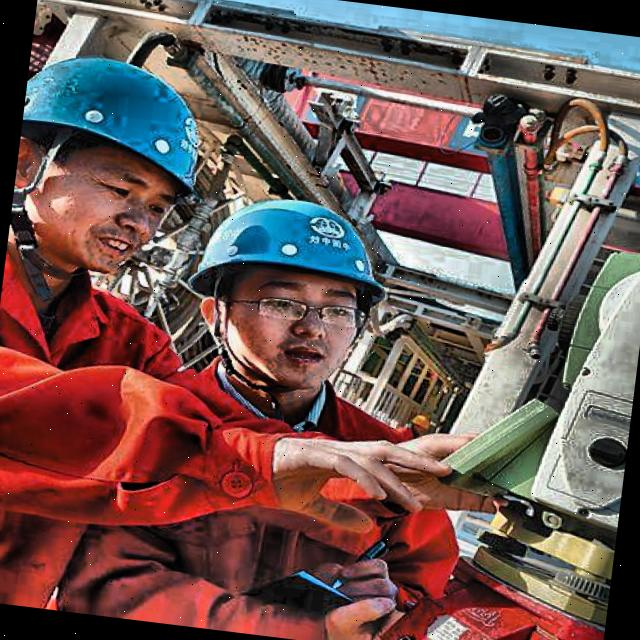helmet: (4, 25, 226, 302), (181, 162, 409, 404)
